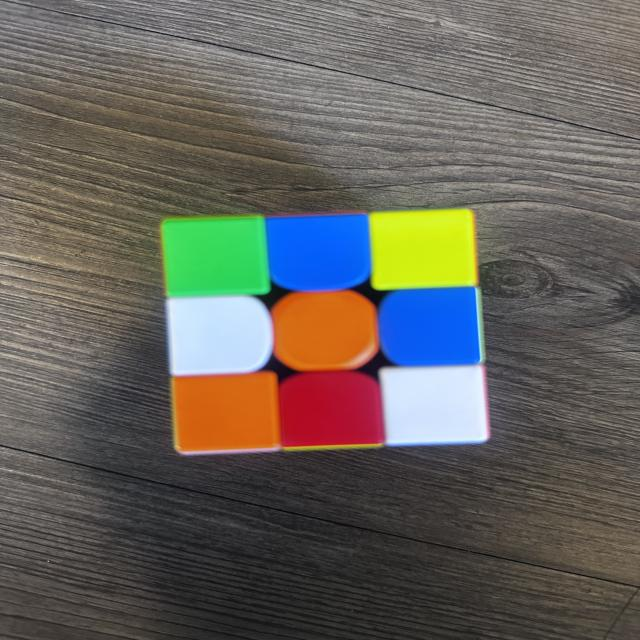sticker: (171, 371, 284, 456), (368, 209, 478, 293), (160, 216, 270, 300), (378, 365, 489, 448), (270, 291, 380, 374), (276, 369, 386, 452), (167, 296, 275, 378), (266, 213, 371, 295), (378, 287, 482, 369)
